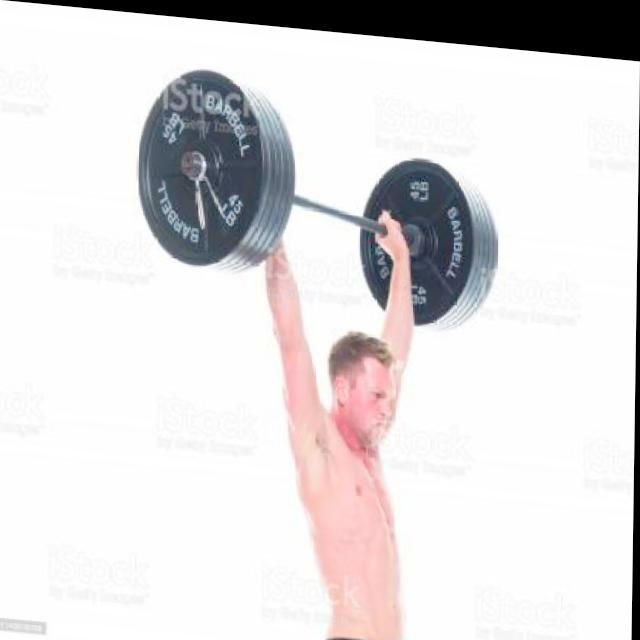barbell: (133, 57, 271, 277)
